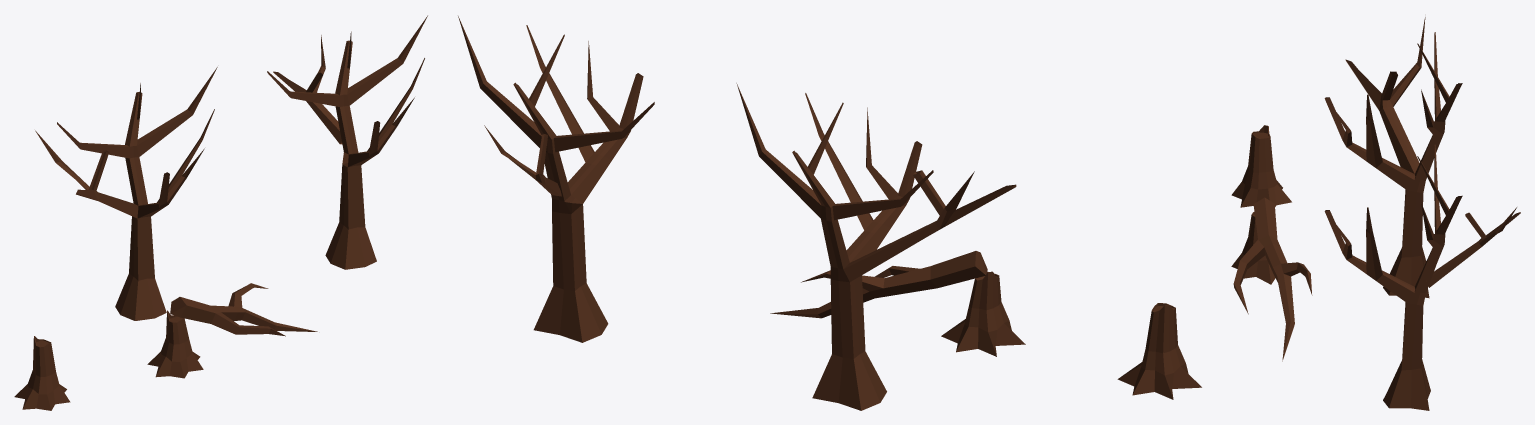
File: fehmiagacmodel002.fbx
The picture shows the model from 3 angles, left to right: view 1: azimuth 30°, elevation 25°; view 2: azimuth 150°, elevation 25°; view 3: azimuth 270°, elevation 25°; orthographic projection. The views are drawn at different scales.
Parts seen in each view (by area): view 1: Tree_average_regular.001, Tree_average_regular.002, Branch_average_bare, Stump_average_high, Stump_average_high.001; view 2: Tree_average_regular.001, Tree_average_regular.002, Branch_average_bare, Stump_average_high, Stump_average_high.001; view 3: Tree_average_regular.001, Tree_average_regular.002, Branch_average_bare, Stump_average_high, Stump_average_high.001.
Part boxes in pixels (x1,y1,x2,y2): Tree_average_regular.001: (35, 67, 217, 320); Tree_average_regular.002: (267, 15, 427, 269); Branch_average_bare: (170, 283, 317, 336); Stump_average_high: (14, 336, 70, 410); Stump_average_high.001: (147, 310, 203, 378); Tree_average_regular.001: (736, 83, 1016, 410); Tree_average_regular.002: (458, 16, 654, 342); Branch_average_bare: (770, 251, 987, 318); Stump_average_high: (1117, 303, 1201, 399); Stump_average_high.001: (941, 271, 1025, 356); Tree_average_regular.001: (1324, 17, 1462, 298); Tree_average_regular.002: (1324, 144, 1520, 410); Branch_average_bare: (1233, 197, 1312, 361); Stump_average_high: (1231, 125, 1291, 207); Stump_average_high.001: (1231, 212, 1275, 284).
Bounding box in the file's own units: 2888 × 1327 × 1361.
